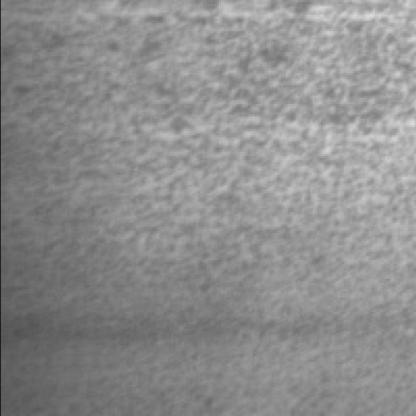pitted_surface: (33, 4, 416, 285)
